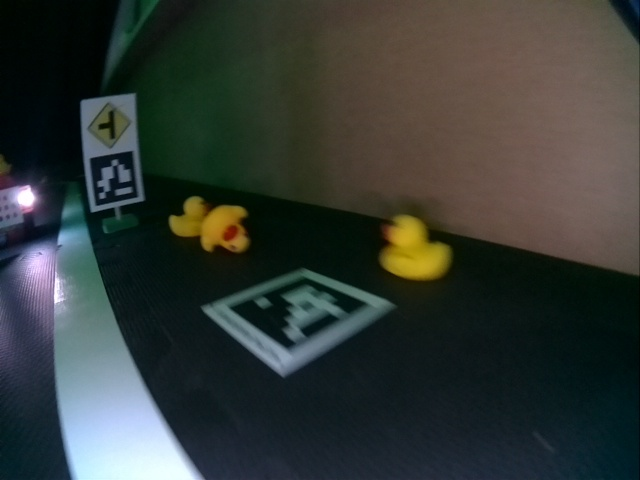Duckie: (380, 217, 450, 279), (200, 204, 249, 253), (170, 196, 209, 236)
Duckiebot: (0, 176, 37, 244)
Intersection sign: (85, 99, 134, 146)
QR code: (202, 269, 395, 375), (87, 151, 142, 207)
